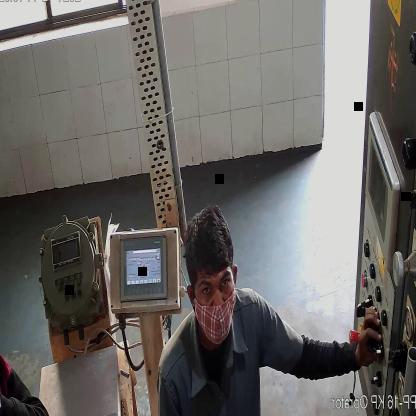no_goggles: (197, 263, 235, 298)
